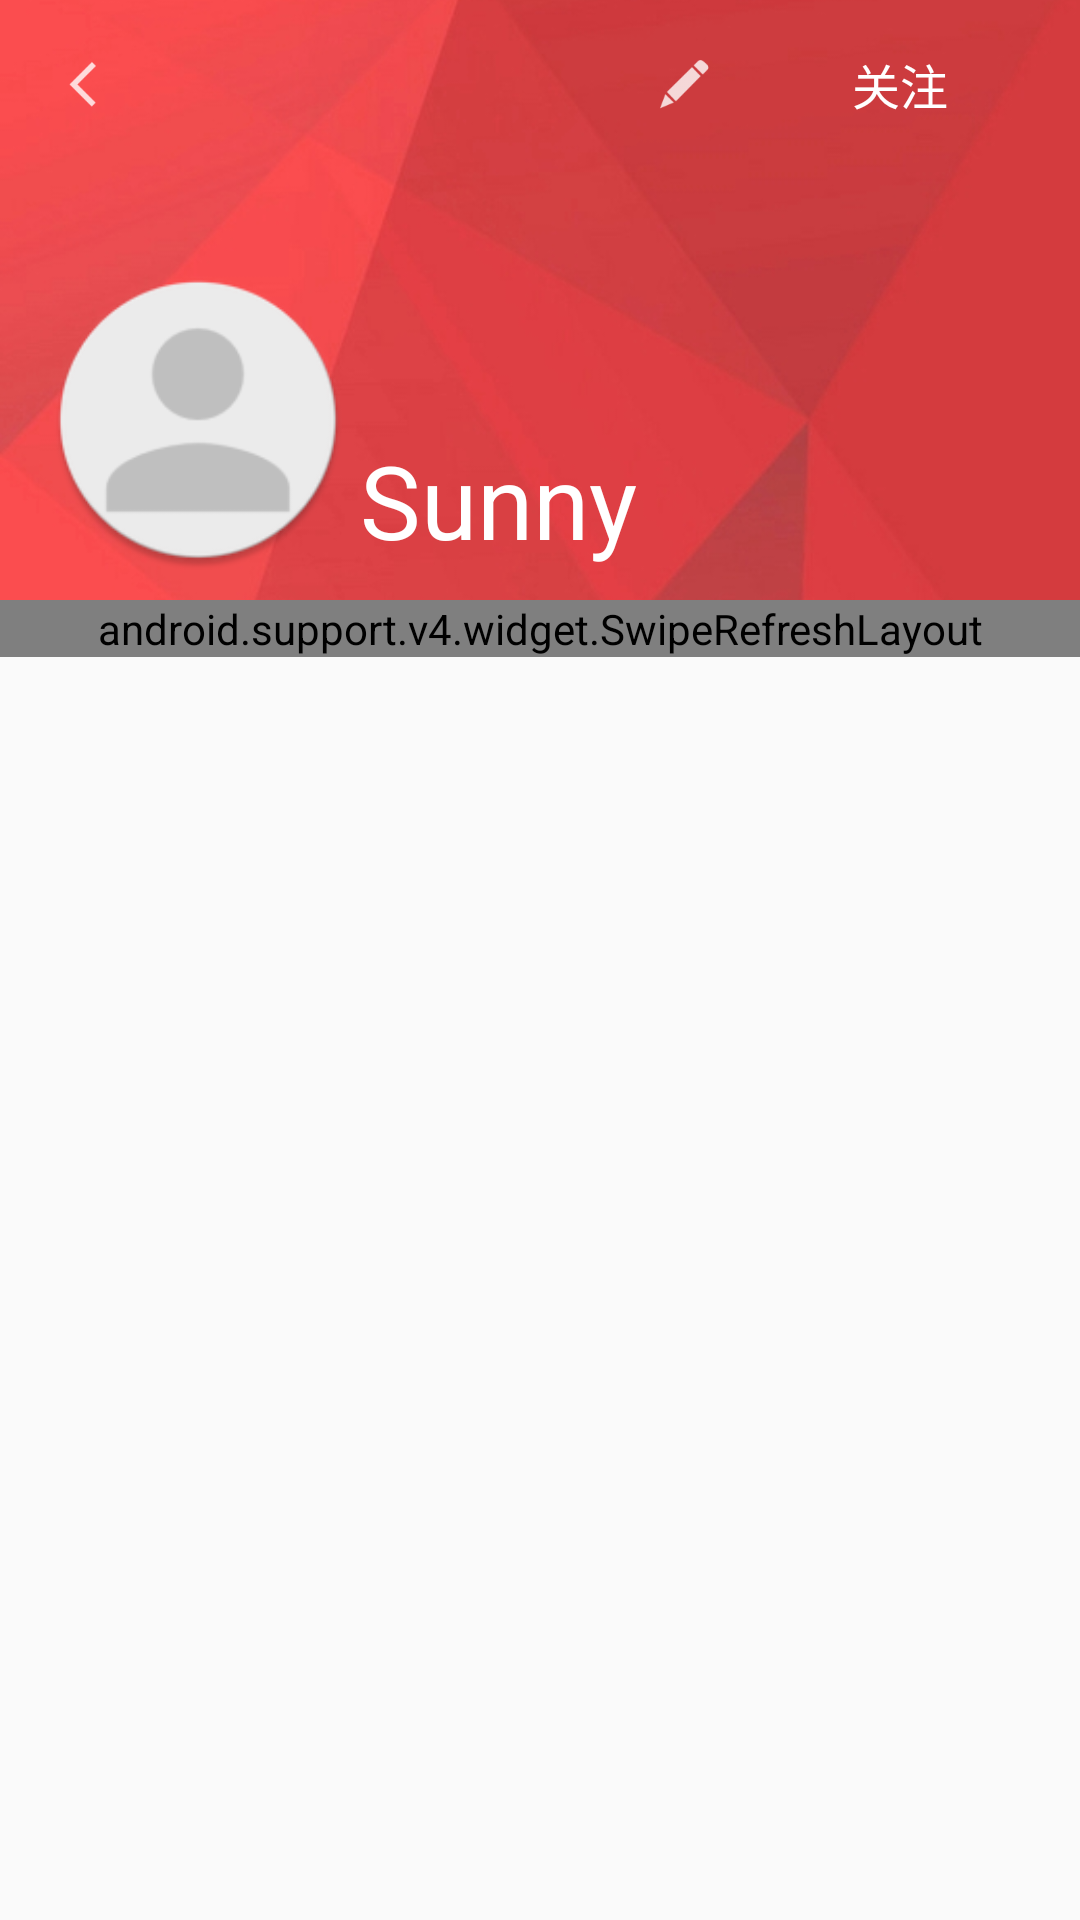

Where icons sit on this 1080px×1920px app screen, as (x1, y1, x2, y2):
pen: (660, 60, 709, 108)
return: (69, 62, 96, 107)
user: (48, 270, 348, 570)
